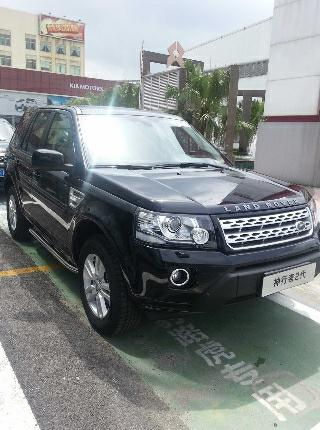MINI-JCWPACEMAN: (5, 115, 319, 312)
